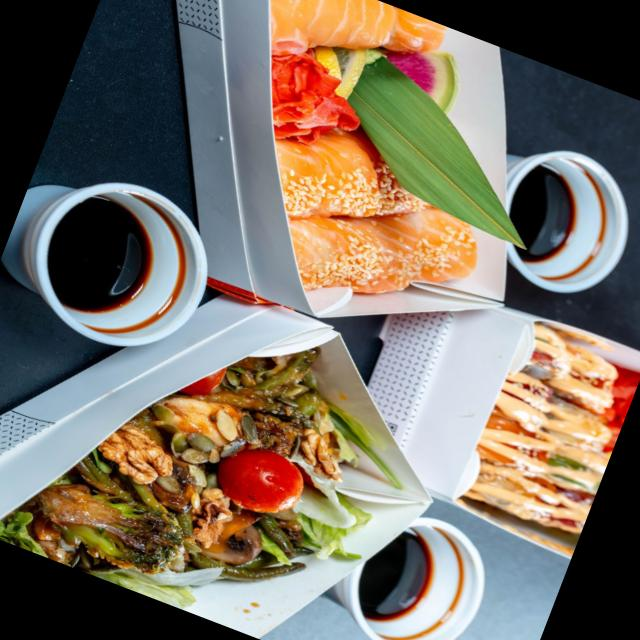paper: (0, 281, 448, 640), (165, 0, 515, 334), (358, 304, 640, 565)
